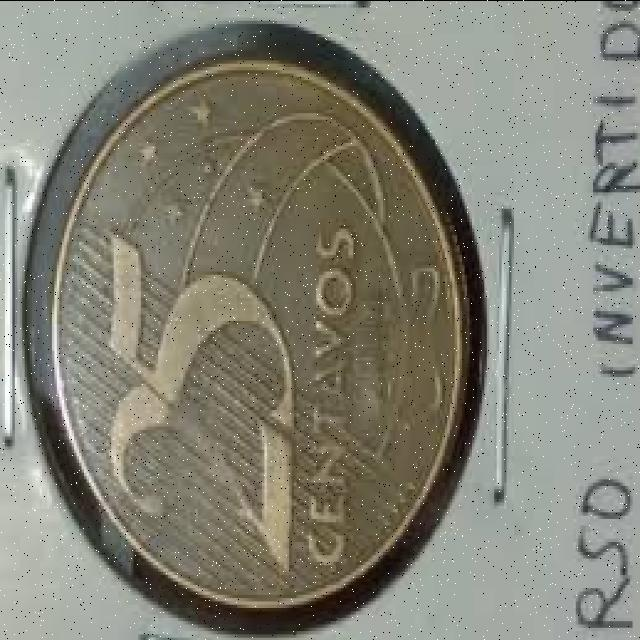25 cent: (62, 59, 458, 600)
